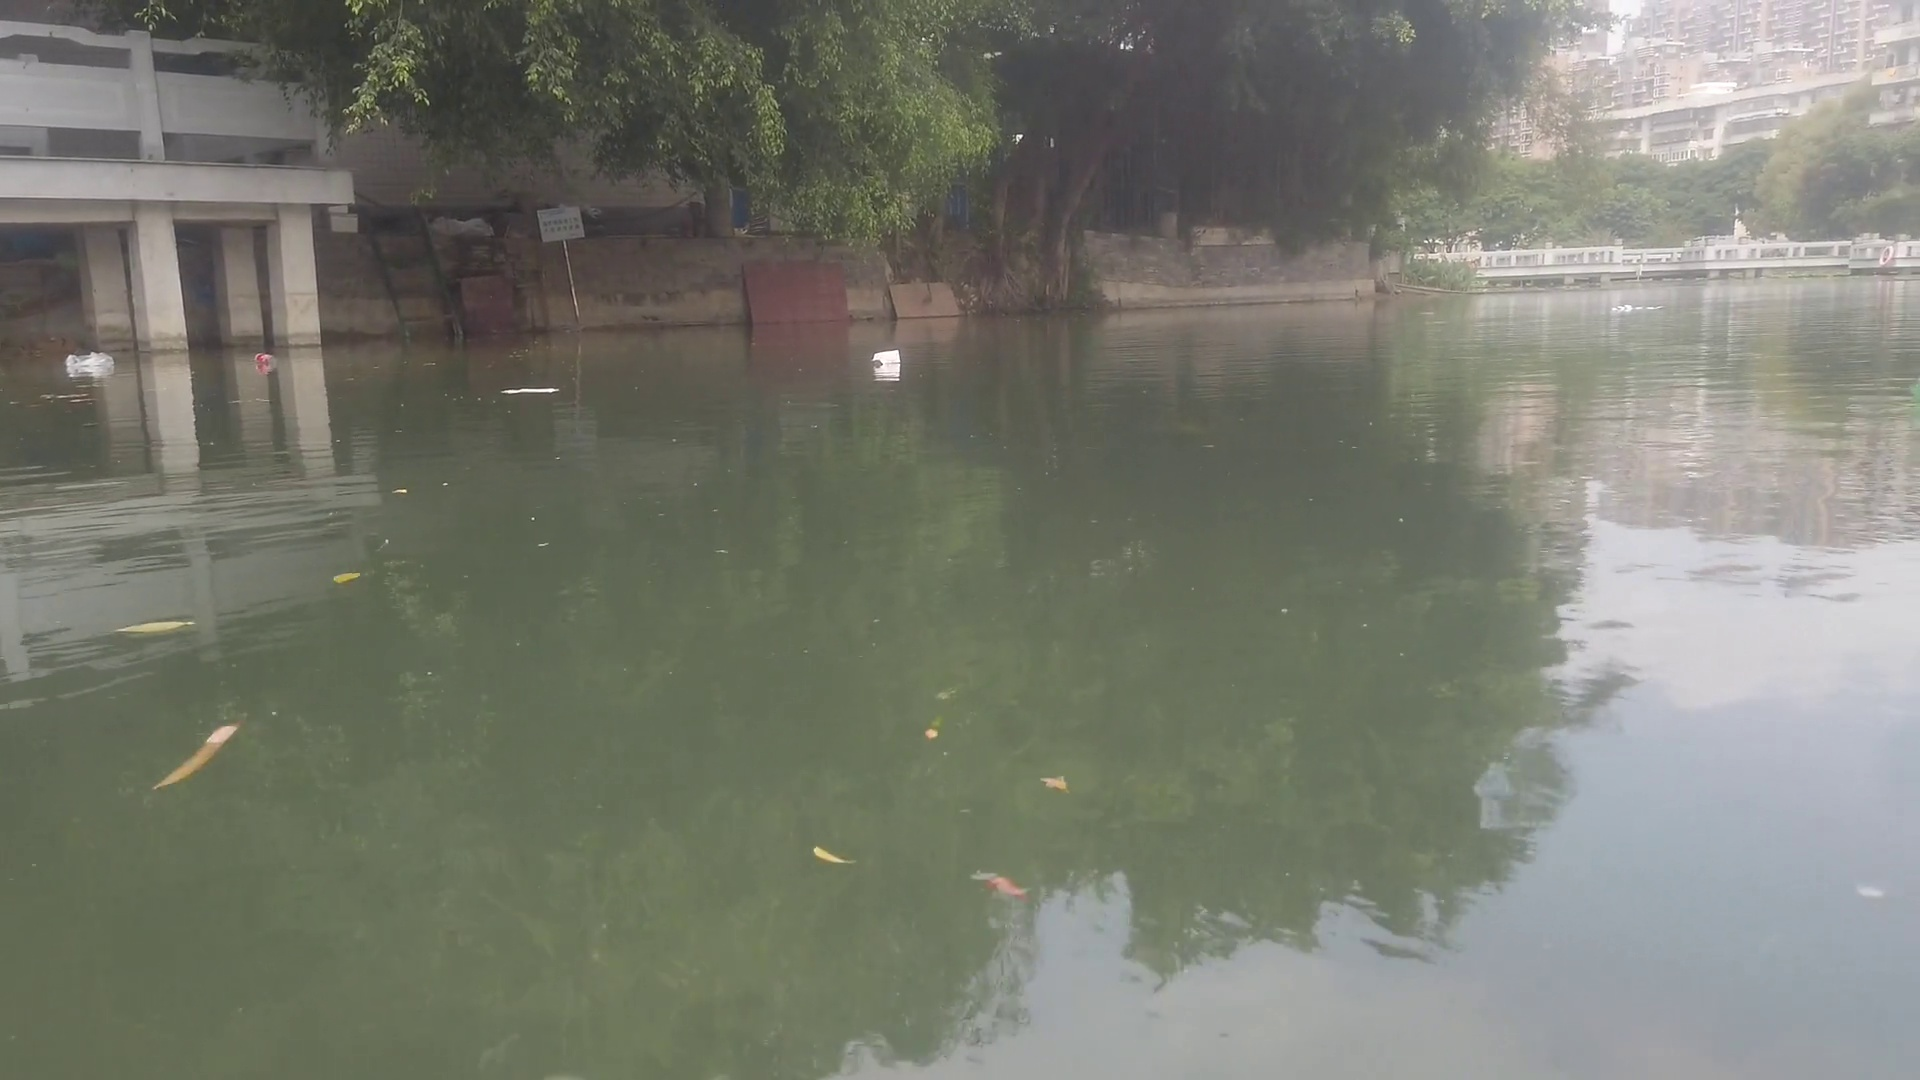bottle: (253, 351, 280, 369)
carton: (502, 380, 564, 396), (866, 344, 903, 367)
paper: (1610, 301, 1659, 314)
plastic: (65, 345, 113, 373)
